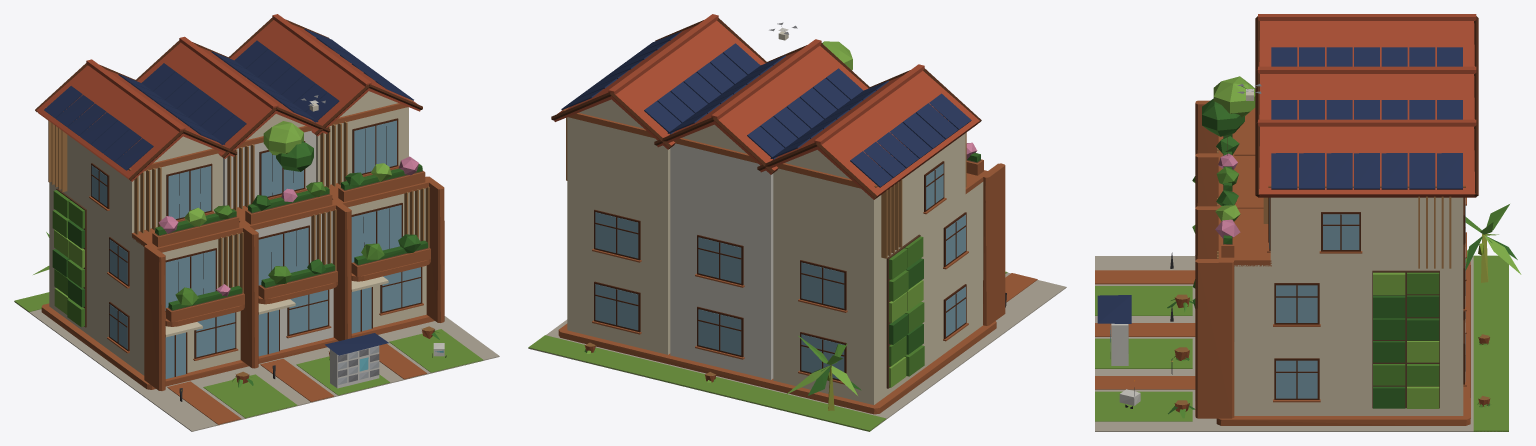
File: home_3.glb
3 views of the same model, side by side, from view 1: azimuth 30°, elevation 25°; view 2: azimuth 150°, elevation 25°; view 3: azimuth 270°, elevation 25° (orthographic). The views are drawn at different scales.
Parts seen in each view (by area): view 1: body; view 2: body; view 3: body.
Boxes of the visible parts, x1=… form: body: x1=14, y1=14, x2=499, y2=431; body: x1=528, y1=14, x2=1066, y2=431; body: x1=1095, y1=14, x2=1521, y2=431.
Size of the model in its own units: 15.9 by 12.09 by 16.39.
